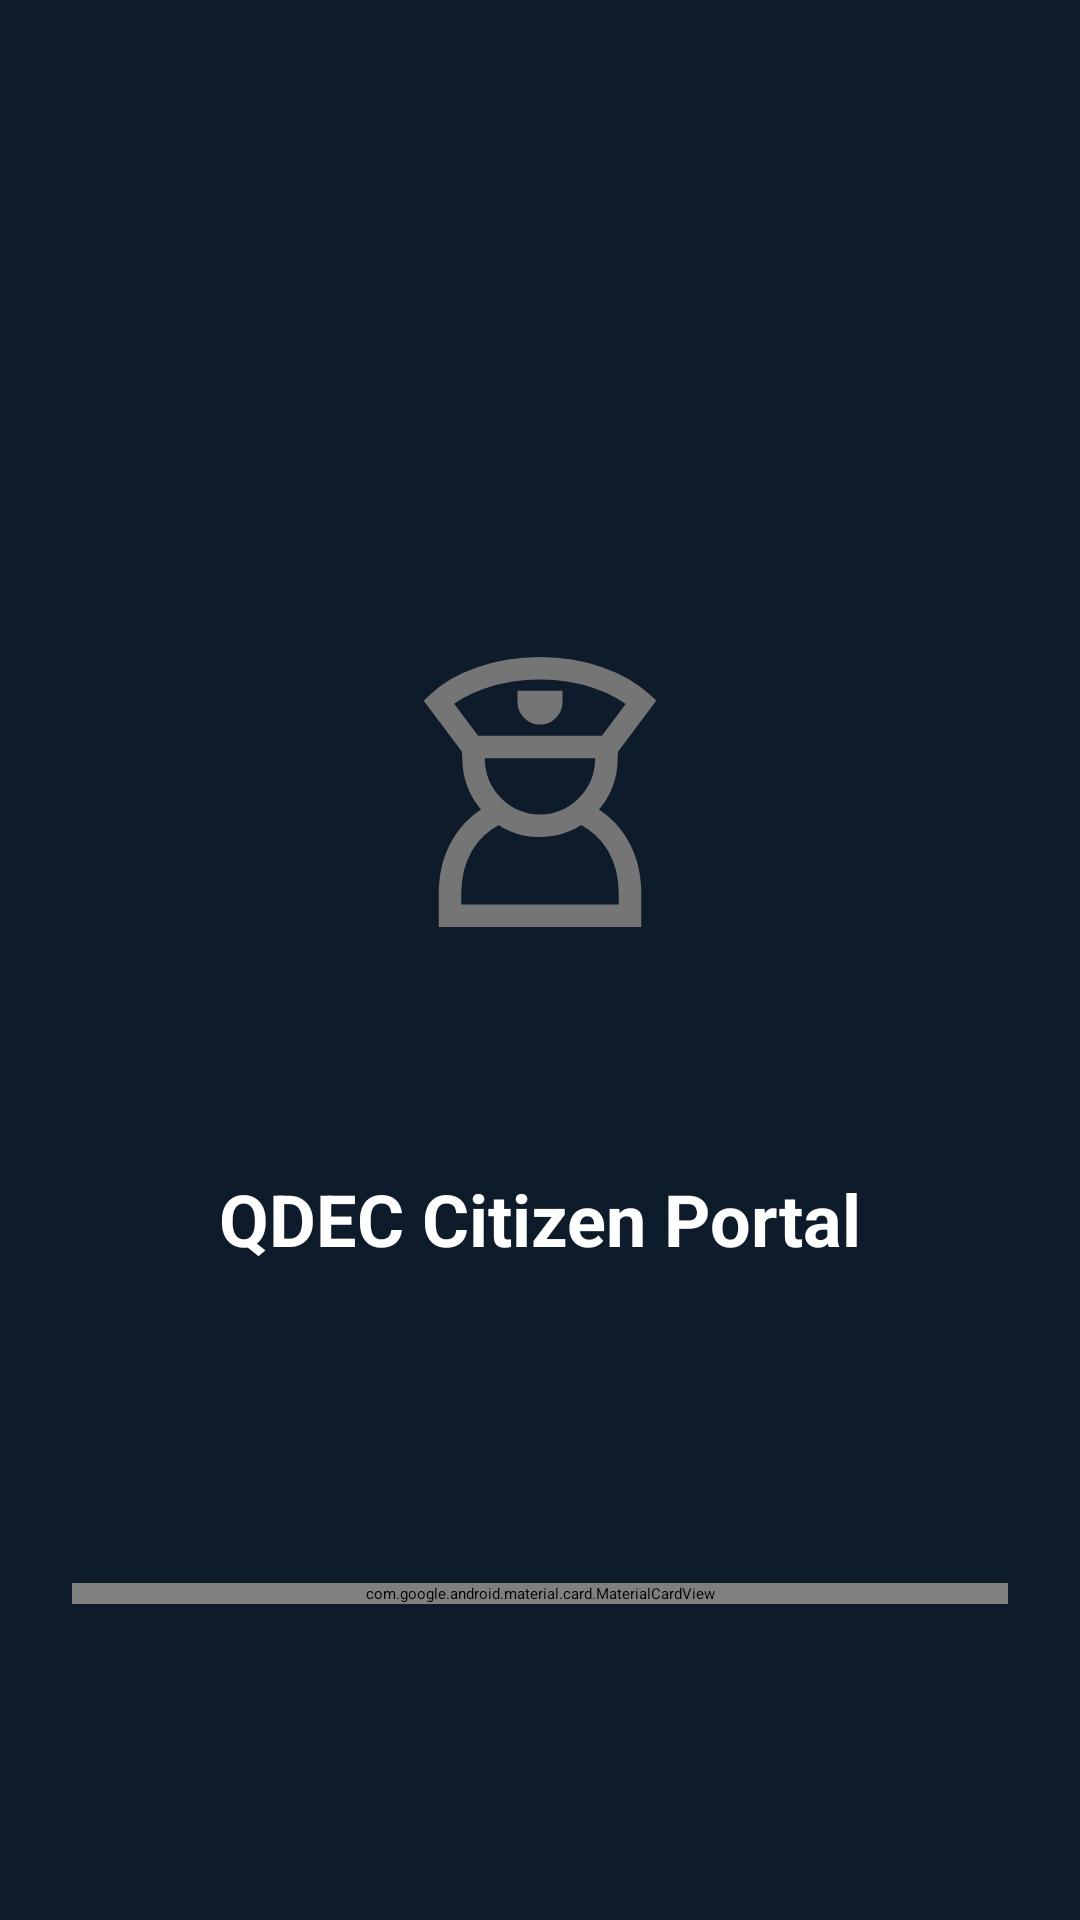

Where icons sit on this 1080 x 1920 app screen, as (x1, y1, x2, y2):
police hat: (424, 657, 656, 927)
